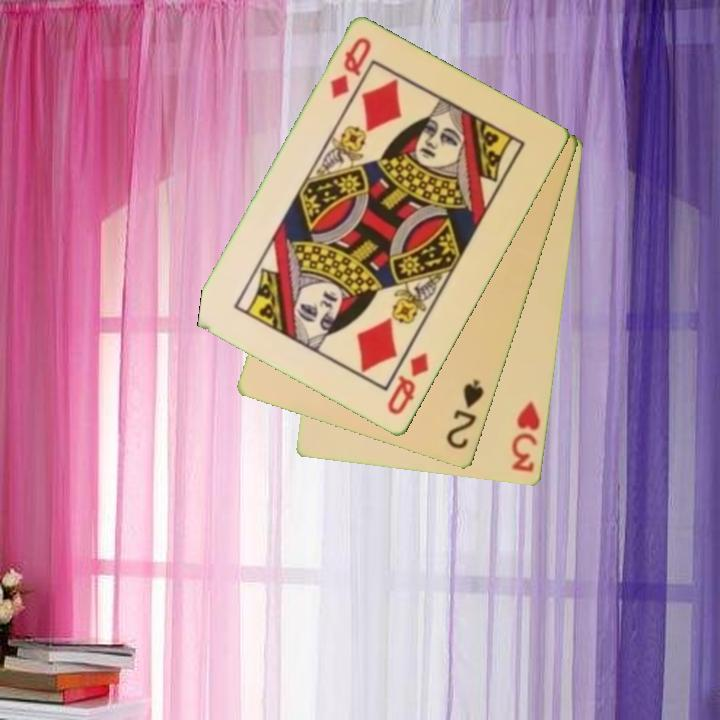2s: (443, 376, 488, 453)
3h: (508, 398, 543, 475)
Qd: (383, 349, 433, 419), (326, 34, 375, 102)
